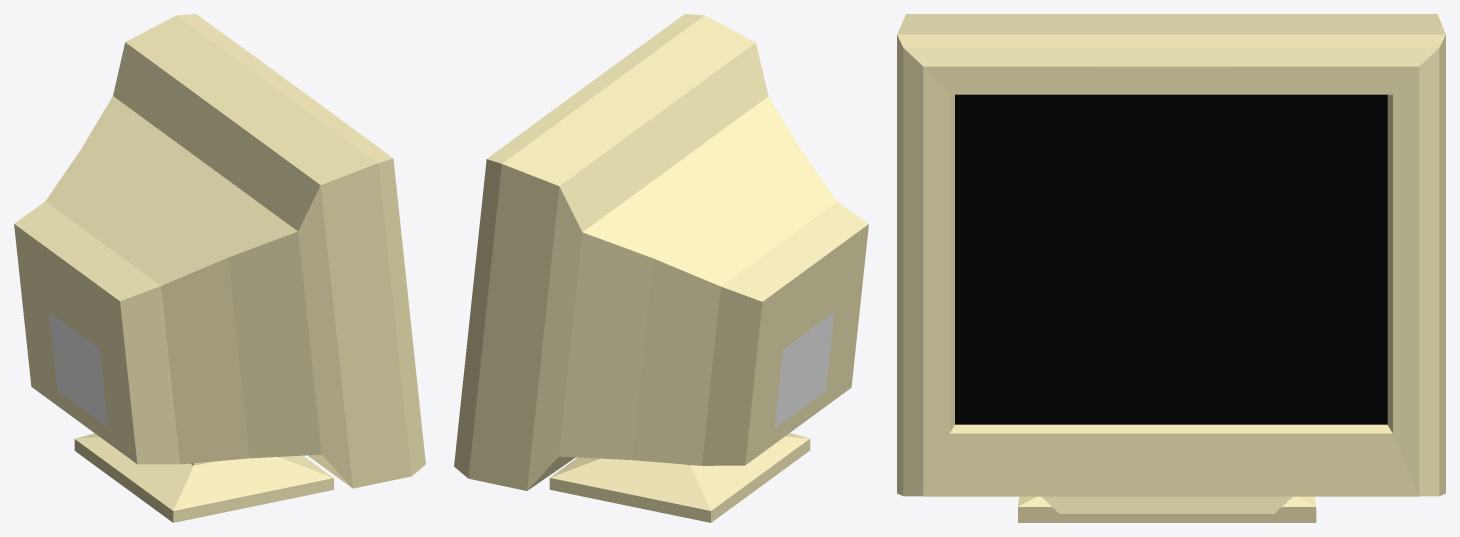
File: monitor_crt1.fbx
The picture shows the model from 3 angles, left to right: view 1: azimuth 30°, elevation 25°; view 2: azimuth 150°, elevation 25°; view 3: azimuth 270°, elevation 25°; orthographic projection. The views are drawn at different scales.
Visible parts, largest first — view 1: Cube; view 2: Cube; view 3: Cube.
Part boxes in pixels (x1,y1,x2,y2): Cube: (14, 14, 425, 522); Cube: (454, 14, 868, 522); Cube: (897, 14, 1445, 522).
Bounding box in the file's own units: 173 × 222 × 226.
